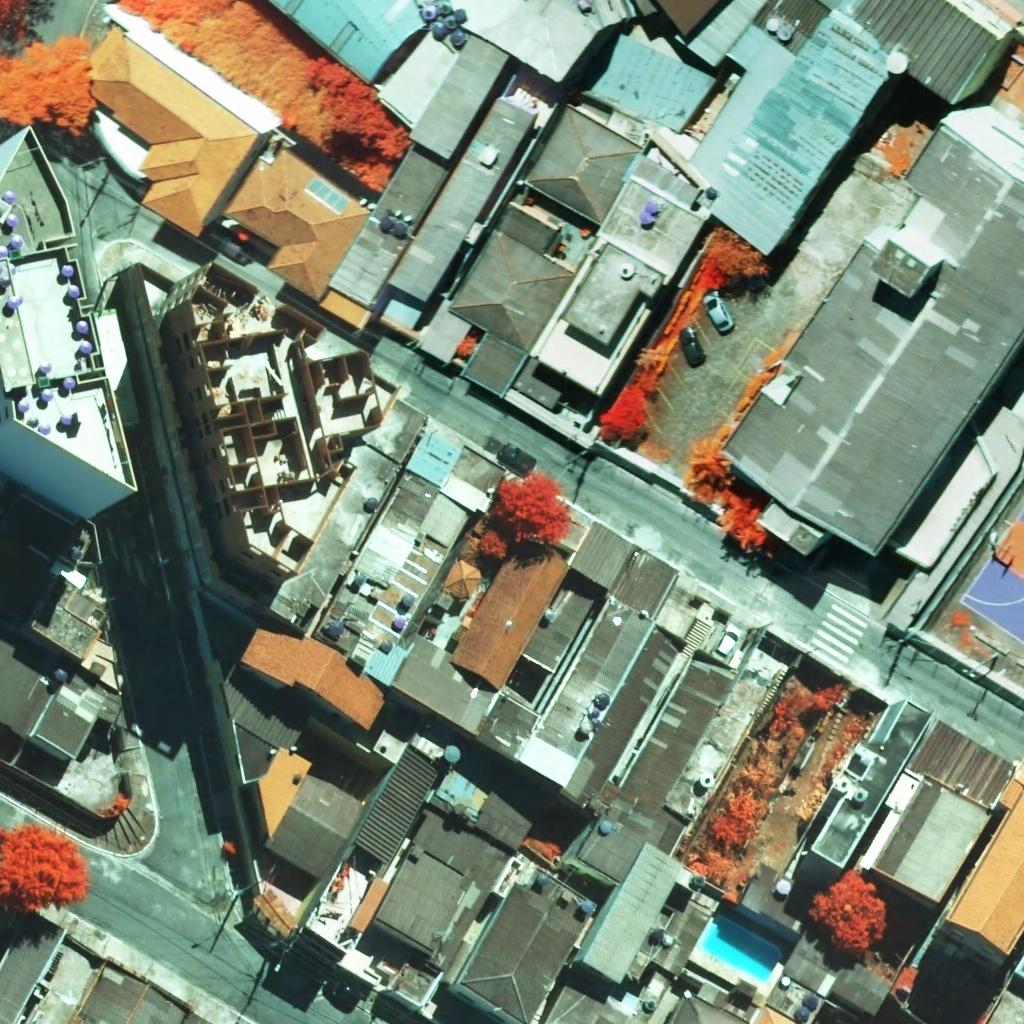pool: (701, 916, 781, 984)
